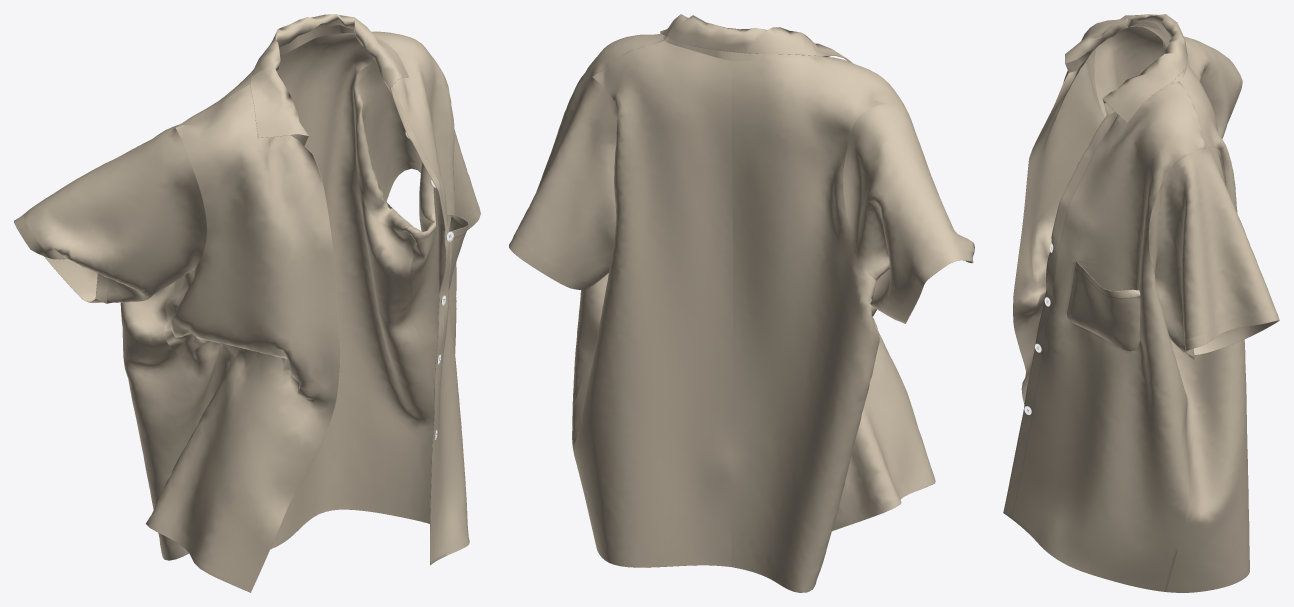
File: FLG_000005.fbx
3 views of the same model, side by side, from view 1: azimuth 30°, elevation 25°; view 2: azimuth 150°, elevation 25°; view 3: azimuth 270°, elevation 25° (orthographic). The views are drawn at different scales.
Visible parts, largest first — view 1: FLG_000005; view 2: FLG_000005; view 3: FLG_000005.
Part boxes in pixels (left/top/right/bottom): FLG_000005: left=14, top=14, right=480, bottom=592; FLG_000005: left=509, top=14, right=974, bottom=592; FLG_000005: left=1003, top=14, right=1279, bottom=592.
Bounding box in the file's own units: 67.12 × 76.01 × 37.13.
